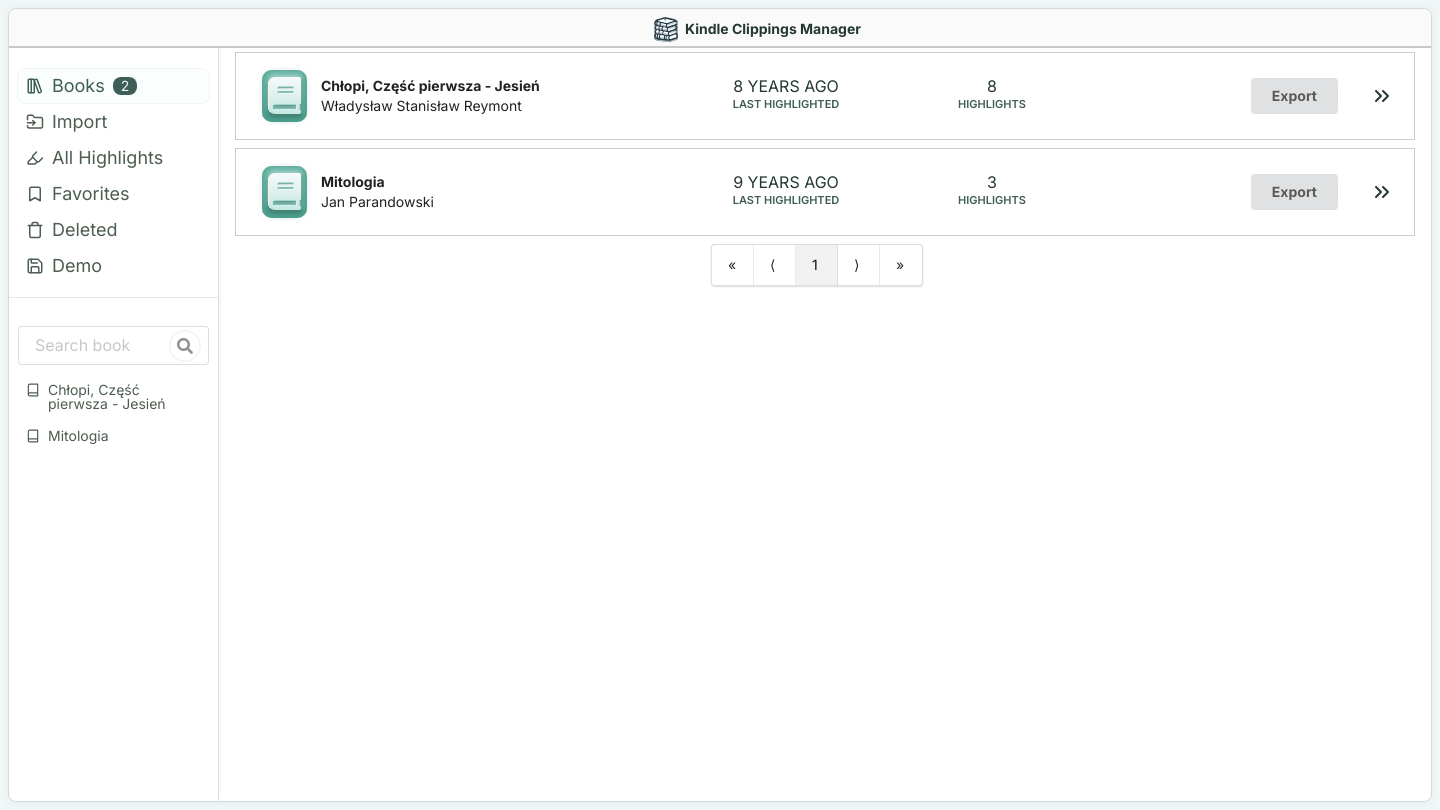
Test case: stats are displayed in highlights list
Click the text "Mitologia": (353, 182) [321,172,385,192]
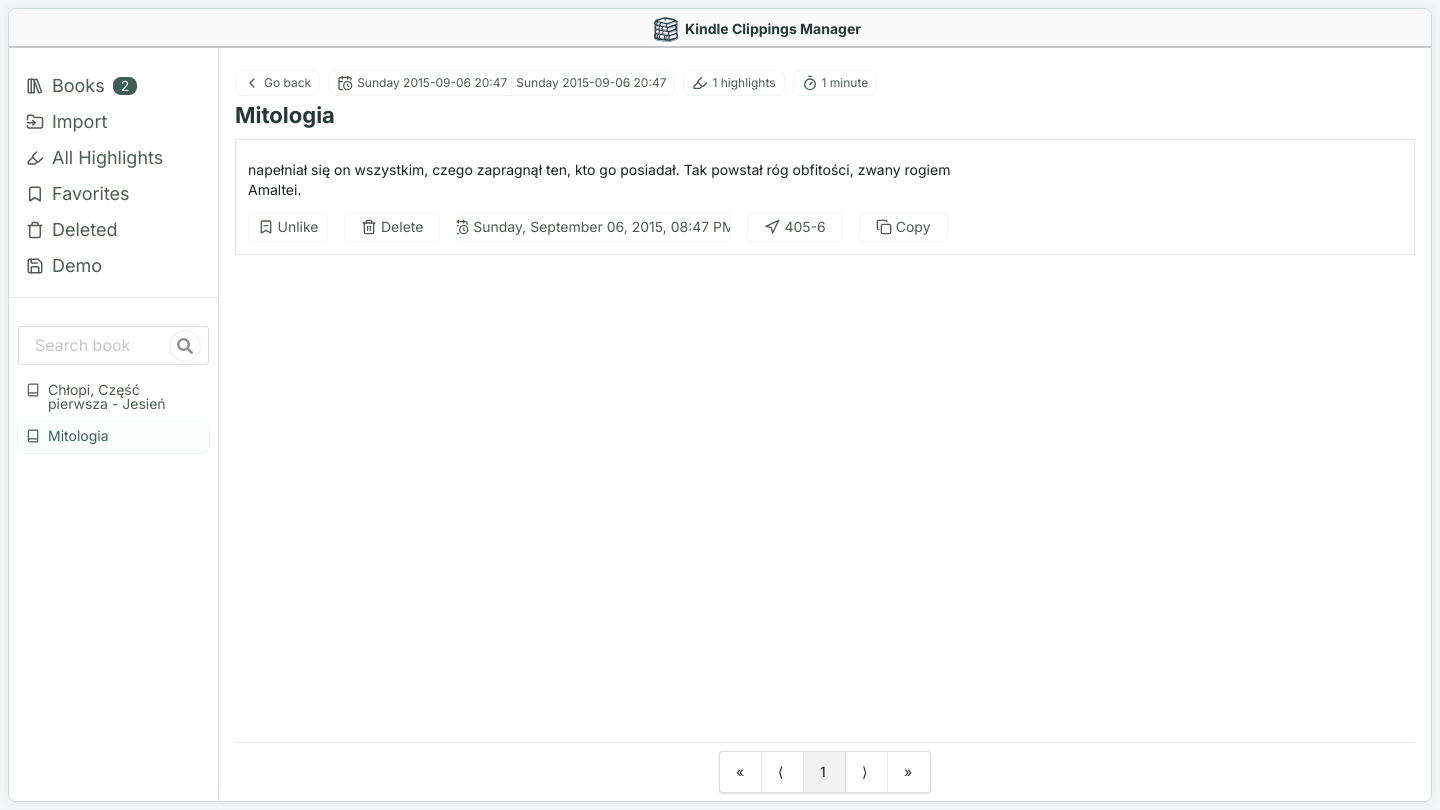
Check: the text "1 highlights" is shown, box [684,70,785,96]
Check: the text "1 minute" is shown, box [793,70,877,96]
